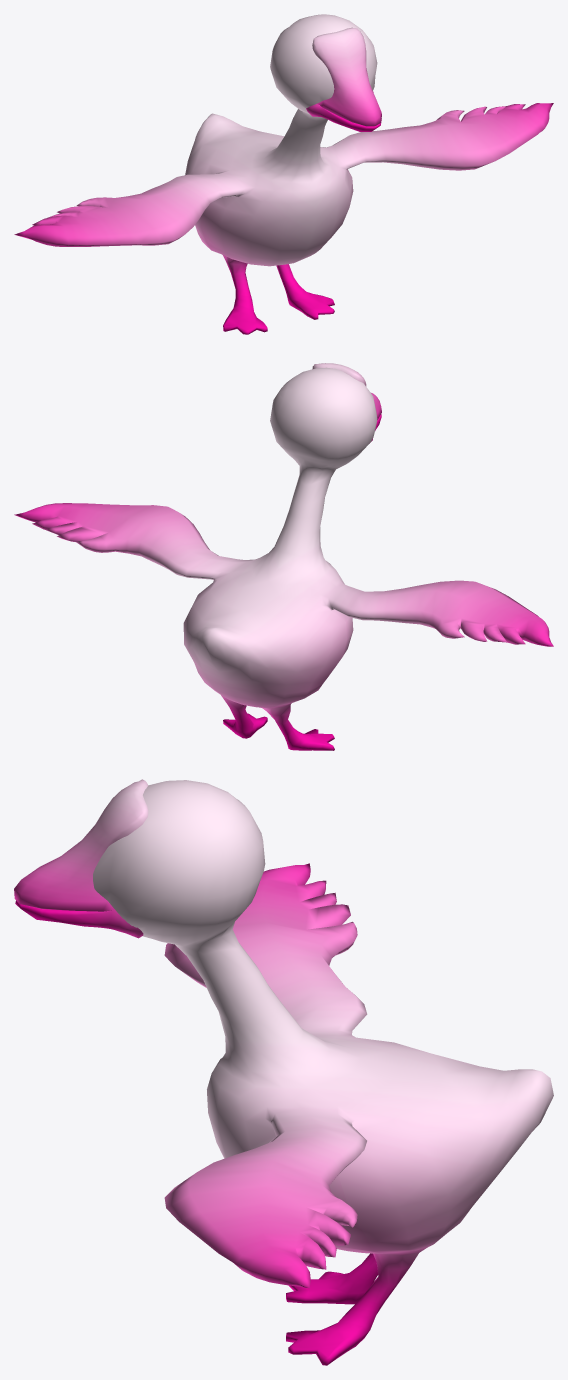
Rendered from Ganso.boca.fbx.
3 views of the same model, one above another, from view 1: azimuth 30°, elevation 25°; view 2: azimuth 150°, elevation 25°; view 3: azimuth 270°, elevation 25° (orthographic). The views are drawn at different scales.
Visible parts, largest first — view 1: ganso, bico; view 2: ganso, bico; view 3: ganso, bico.
Part boxes in pixels (x1,y1,x2,y2): ganso: (14, 14, 553, 334); bico: (306, 27, 381, 131); ganso: (14, 367, 553, 750); bico: (312, 363, 381, 443); ganso: (93, 780, 553, 1365); bico: (14, 779, 148, 938).
Bounding box in the file's own units: 505 × 296 × 271.
